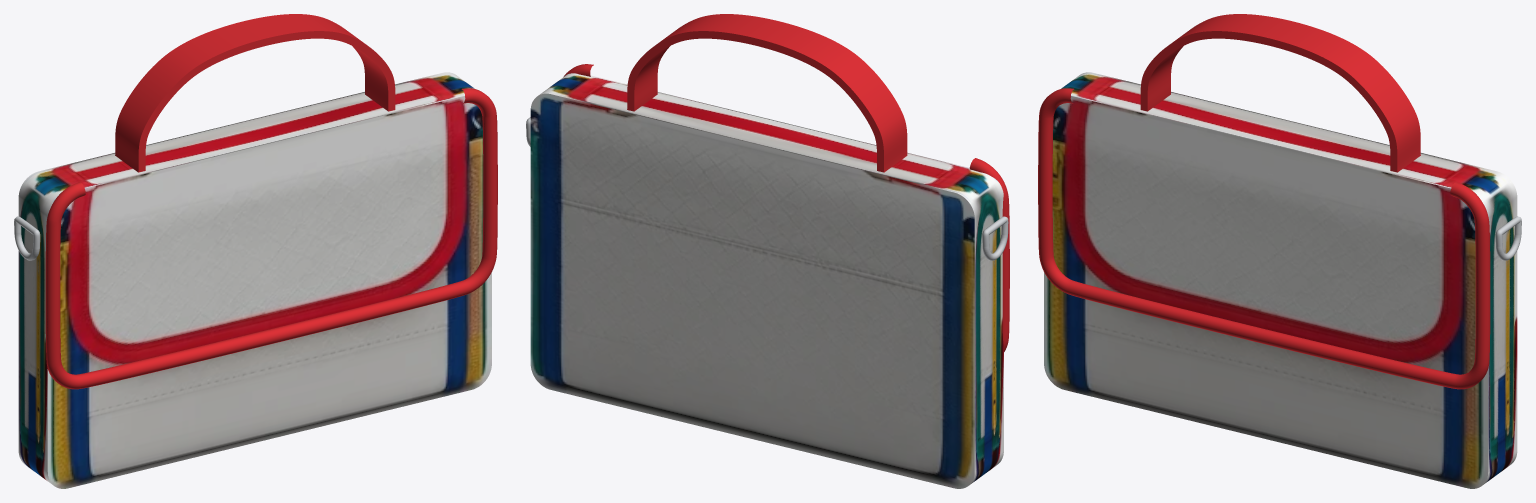
File: mini-flap.glb
The picture shows the model from 3 angles, left to right: view 1: azimuth 30°, elevation 25°; view 2: azimuth 150°, elevation 25°; view 3: azimuth 330°, elevation 25°; orthographic projection.
Parts seen in each view (by area): view 1: Body_Shell, Body_Shell_Edge, Trim_Red_Flap, Handle_Top, Hardware_DRing; view 2: Body_Shell_Back, Body_Shell_Edge, Handle_Top, Trim_Red_Flap, Hardware_DRing; view 3: Body_Shell, Body_Shell_Edge, Trim_Red_Flap, Handle_Top, Hardware_DRing.
Boxes of the visible parts, x1,y1,x2,y2 form: Body_Shell: (47, 96, 491, 488); Body_Shell_Edge: (18, 72, 474, 483); Trim_Red_Flap: (45, 88, 497, 389); Handle_Top: (115, 14, 395, 172); Hardware_DRing: (14, 216, 40, 260); Body_Shell_Back: (530, 93, 974, 488); Body_Shell_Edge: (539, 73, 1003, 484); Handle_Top: (627, 14, 907, 172); Trim_Red_Flap: (563, 64, 1009, 351); Hardware_DRing: (982, 216, 1008, 260); Body_Shell: (1044, 96, 1488, 488); Body_Shell_Edge: (1061, 72, 1517, 484); Trim_Red_Flap: (1038, 88, 1490, 389); Handle_Top: (1140, 14, 1420, 172); Hardware_DRing: (1495, 216, 1521, 260).
Size of the model in its own units: 0.229 by 0.1887 by 0.0298.
5 materials, 3 textured.
